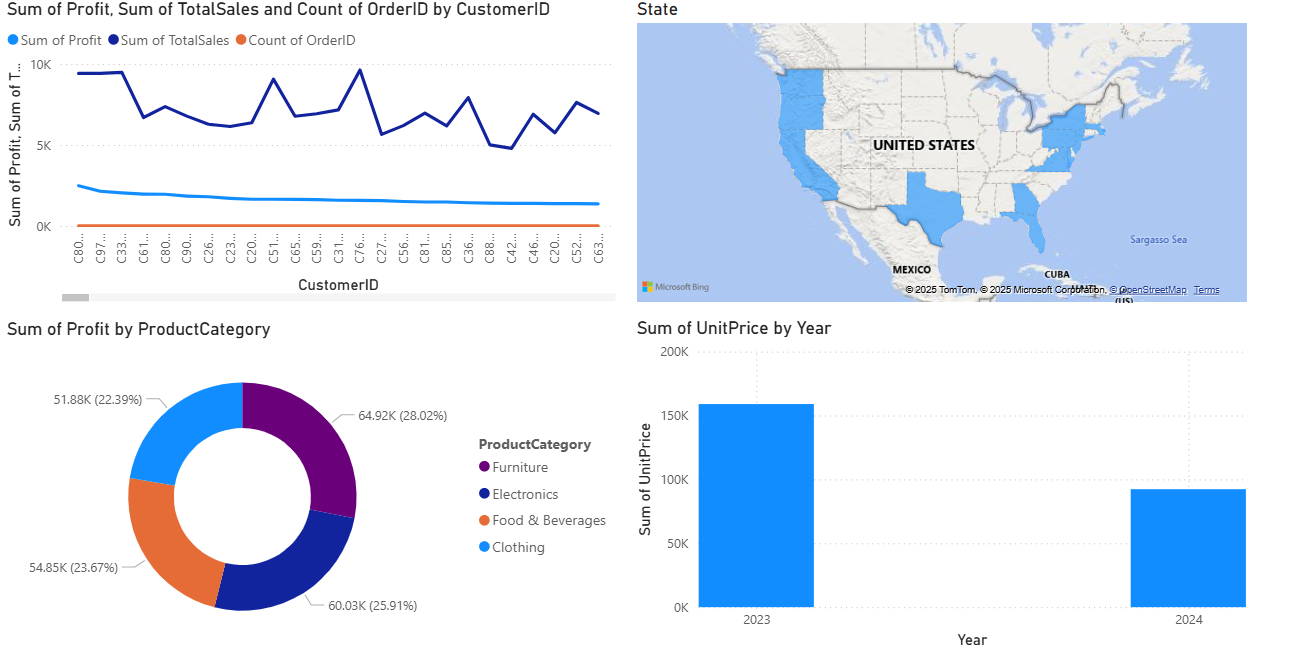

The page's visual inventory and layout, read from the dashboard file:
{"tool":"powerbi","page":{"name":"Page 1","canvas":[1280,720],"ordinal":0},"visuals":[{"type":"lineChart","fields":{"Category":["sales_customer_orders.CustomerID"],"Y":["Sum(sales_customer_orders.Profit)","Sum(sales_customer_orders.TotalSales)","CountNonNull(sales_customer_orders.OrderID)"]},"box":[11.3,0,586.6,292.6],"z":0},{"type":"donutChart","fields":{"Category":["sales_customer_orders.ProductCategory"],"Y":["Sum(sales_customer_orders.Profit)"]},"box":[11.3,302.5,586.6,319.4],"z":1},{"type":"filledMap","fields":{"Category":["sales_customer_orders.State"]},"box":[608,0,587,293],"z":2},{"type":"columnChart","fields":{"Category":["sales_customer_orders.OrderDate.Variation.Date Hierarchy.Year","sales_customer_orders.OrderDate.Variation.Date Hierarchy.Quarter","sales_customer_orders.OrderDate.Variation.Date Hierarchy.Month","sales_customer_orders.OrderDate.Variation.Date Hierarchy.Day"],"Y":["Sum(sales_customer_orders.UnitPrice)"]},"box":[608,302,587,319],"z":3}]}

Visuals, with their boxes on the page's 1280x720 design canvas (x1, y1, x2, y2). These are canvas units, not pixel positions in the 1301x668 screenshot, which may show the page scaled, cropped or inside an application window:
lineChart - sales_customer_orders.CustomerID x Sum(sales_customer_orders.Profit): bbox(11, 0, 598, 293)
donutChart - sales_customer_orders.ProductCategory x Sum(sales_customer_orders.Profit): bbox(11, 302, 598, 622)
filledMap - sales_customer_orders.State: bbox(608, 0, 1195, 293)
columnChart - sales_customer_orders.OrderDate.Variation.Date Hierarchy.Year x sales_customer_orders.OrderDate.Variation.Date Hierarchy.Quarter: bbox(608, 302, 1195, 621)
